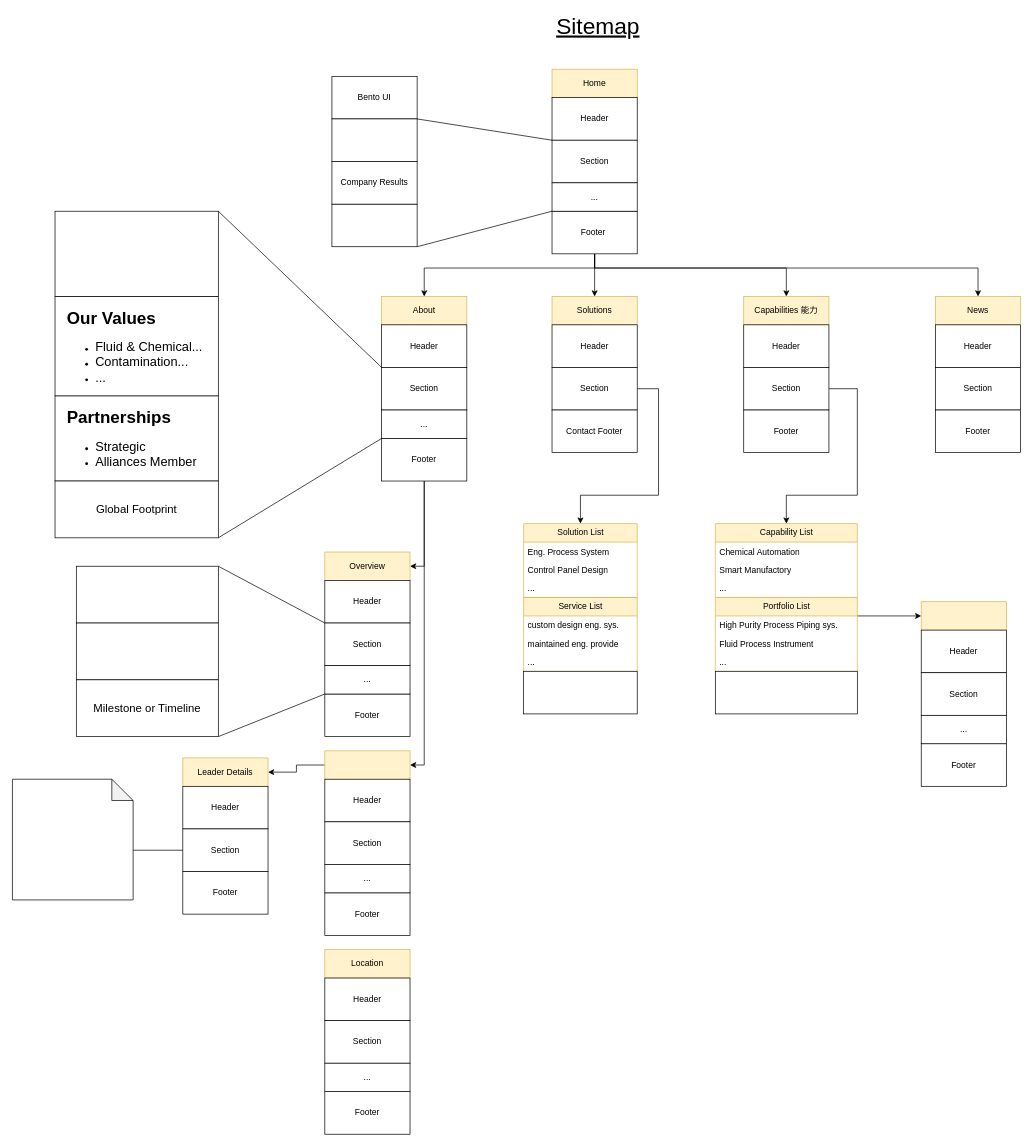
Image size: 1033x1147. Some labels were removed from this diagram. The shapes that lost their labels are listed below. From the top down, each one's centre as x and y in pixels, then its label:
At point (374, 140): "Company Features".
At point (374, 225): "Why Choose Us".
At point (136, 253): "Overview Simple Articles for about company".
At point (147, 594): "article for company".
At point (963, 615): "Portfolio Detail".
At point (147, 651): "vision and mission".
At point (580, 692): "FQA".
At point (786, 692): "Testimonials".
At point (367, 764): "Leaderships".
At point (72, 839): "all about leader members information background of experience awards".
